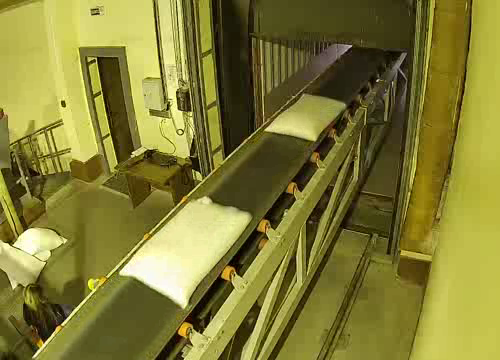bag: (115, 191, 256, 312), (261, 88, 349, 143)
